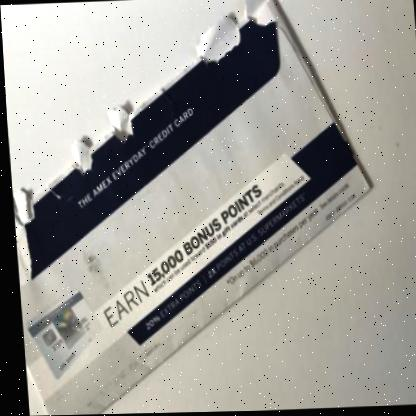Paper: (10, 0, 366, 416)
